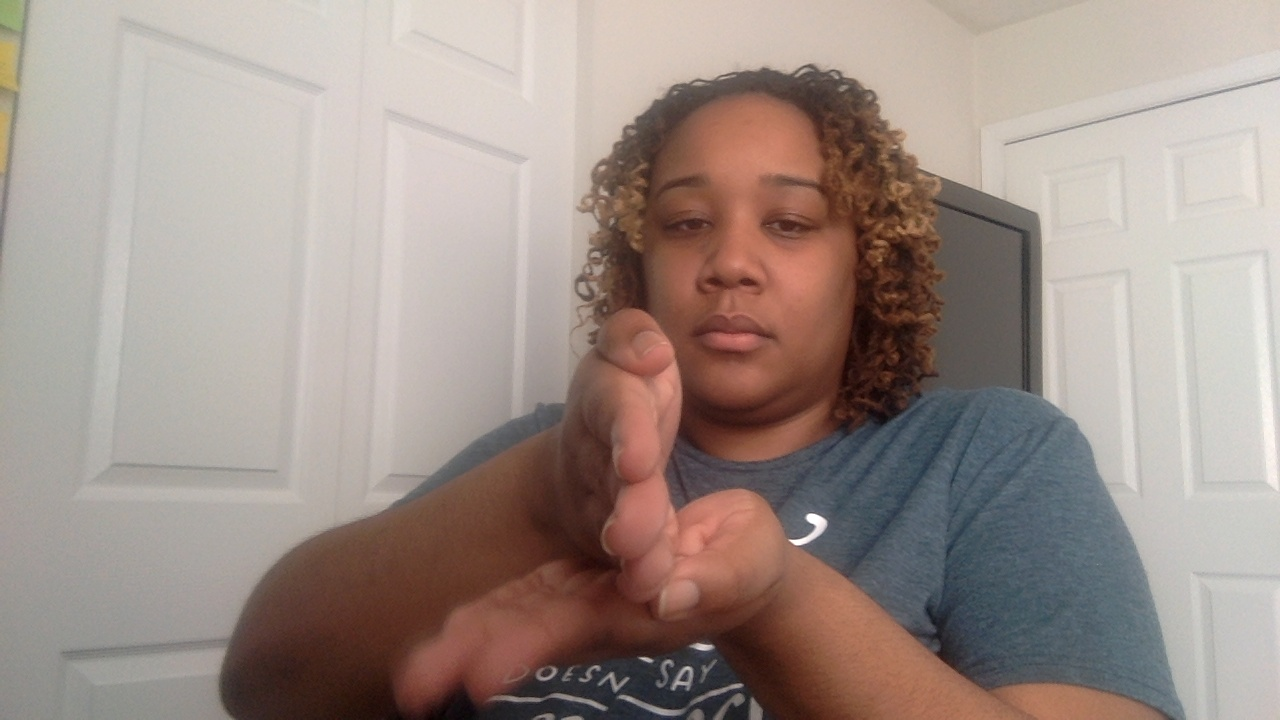stop: (399, 304, 775, 720)
